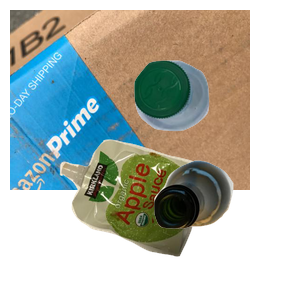cardboard: (10, 10, 250, 190)
glass: (151, 158, 300, 300)
plastic: (132, 58, 300, 182)
trash: (57, 137, 257, 300)
